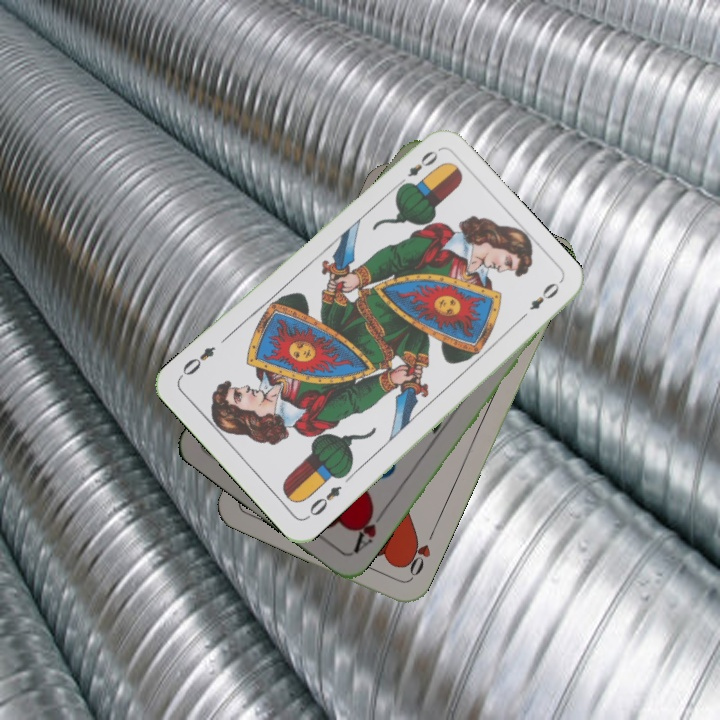EO: (393, 146, 441, 191), (302, 481, 344, 522)
HA: (349, 502, 389, 557)
HO: (400, 525, 438, 581)
